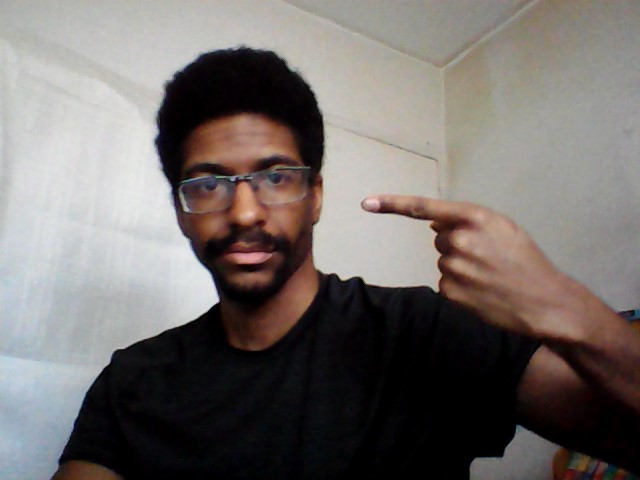g: (356, 191, 558, 338)
